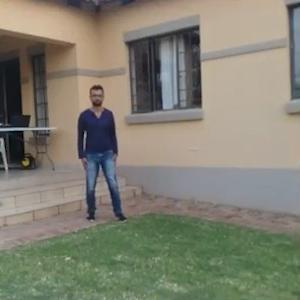follow: (77, 77, 121, 231)
